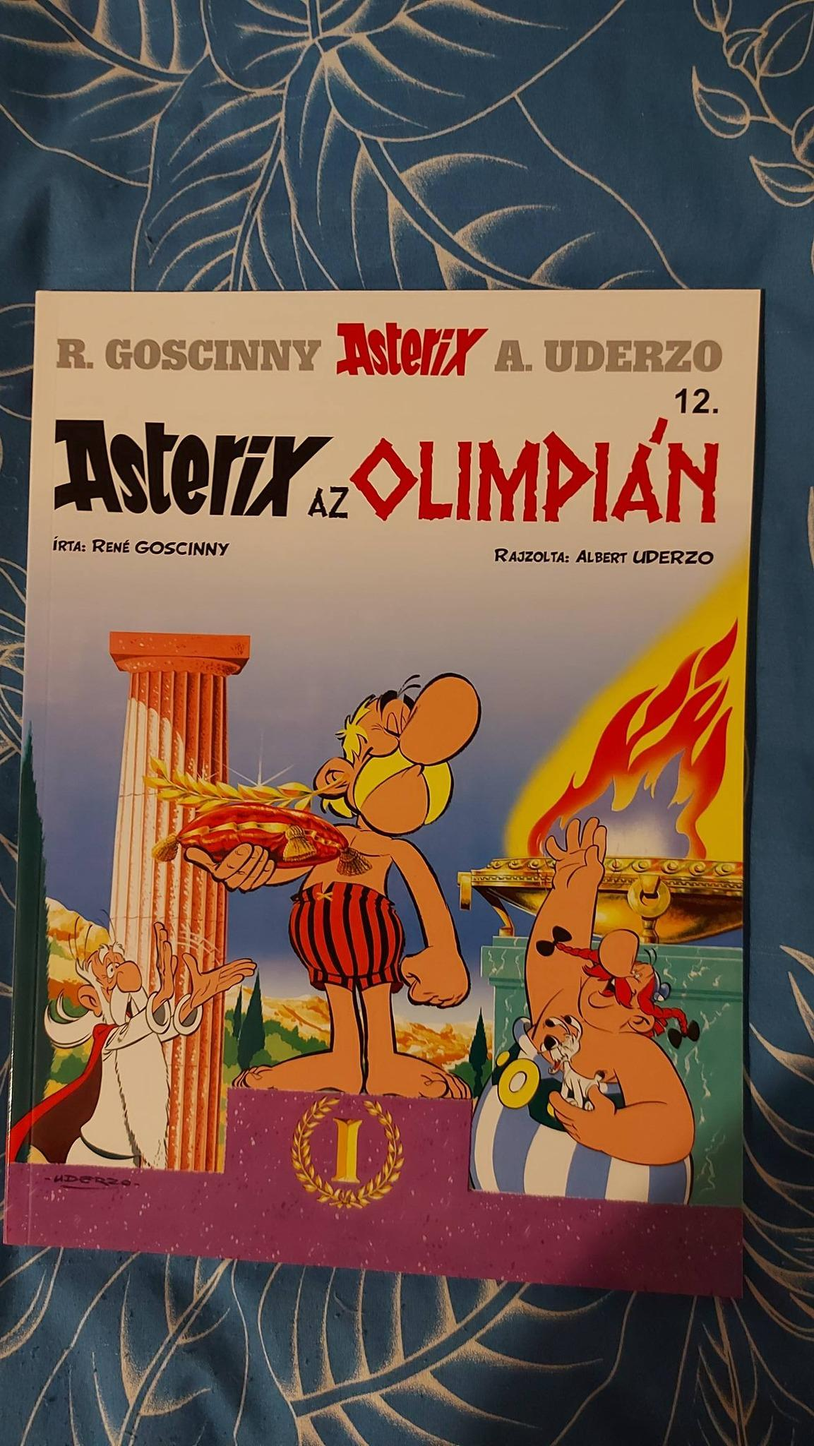comic: (5, 268, 773, 1294)
